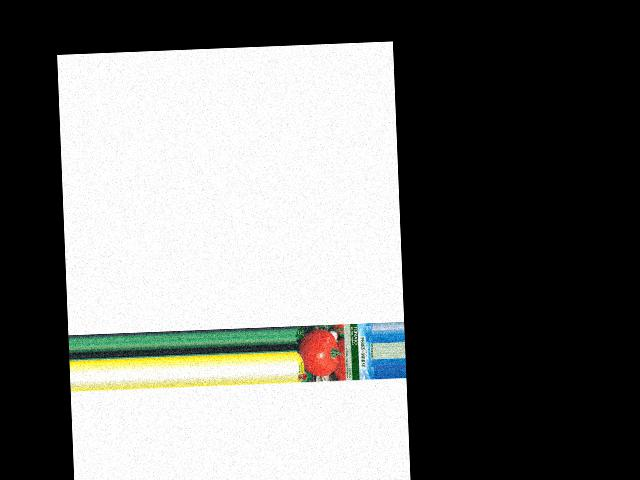tomato: (297, 328, 338, 377)
